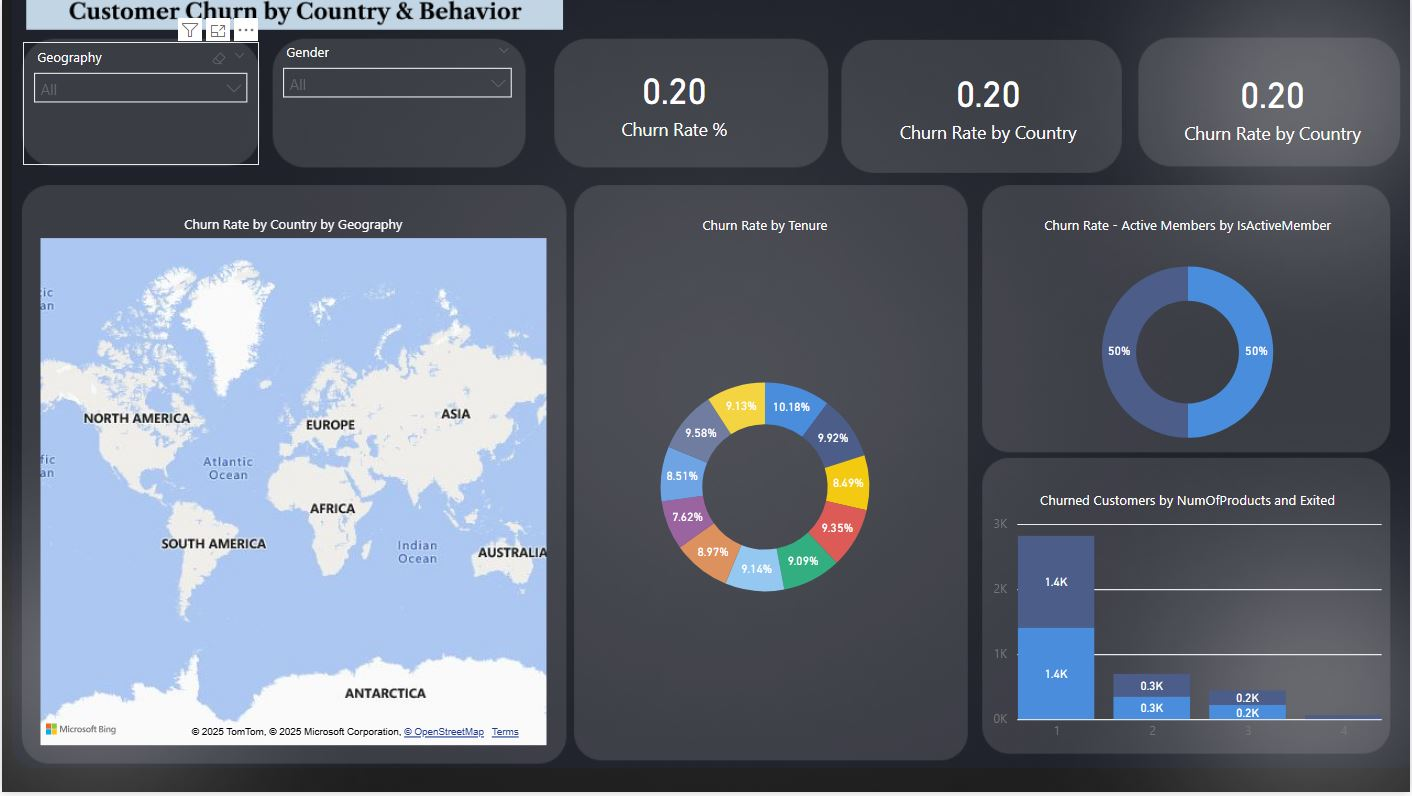

This screenshot's page, from the dashboard's own definition file:
{"tool":"powerbi","page":{"name":"Page 2","canvas":[1280,720],"ordinal":1},"visuals":[{"type":"card","fields":{"Values":["Bank_Churn.Churn Rate %"]},"box":[474.1,33.4,273.1,114.1],"z":0},{"type":"card","fields":{"Values":["Bank_Churn.Churn Rate by Country"]},"box":[1051,37.8,208.1,112.4],"z":1000},{"type":"card","fields":{"Values":["Bank_Churn.Churn Rate by Country"]},"box":[784.1,40.4,223.9,107.1],"z":3000},{"type":"map","fields":{"Size":["Bank_Churn.Churn Rate by Country"],"Series":["Bank_Churn.Geography"]},"box":[30.2,195.5,469.8,487.3],"z":4000},{"type":"donutChart","title":"Churn Rate by Tenure","fields":{"Series":["Bank_Churn.Tenure"],"Y":["Bank_Churn.Churn Rate %"]},"box":[520.4,196.5,347.2,476.6],"z":5000},{"type":"columnChart","fields":{"Category":["Bank_Churn.NumOfProducts"],"Y":["Bank_Churn.Churned Customers"],"Series":["Bank_Churn.Exited"]},"box":[896.8,446.4,362.8,236.4],"z":6000},{"type":"donutChart","fields":{"Category":["Bank_Churn.IsActiveMember"],"Y":["Bank_Churn.Churn Rate - Active Members"]},"box":[896.8,196.5,362.8,231.5],"z":7000},{"type":"slicer","fields":{"Values":["Bank_Churn.Gender"]},"box":[245.9,33.4,228.3,123.8],"z":8000},{"type":"slicer","fields":{"Values":["Bank_Churn.Geography"]},"box":[19.3,37.8,214.2,112.4],"z":9000}]}

Visuals, with their boxes on the page's 1280x720 design canvas (x1, y1, x2, y2). These are canvas units, not pixel positions in the 1412x796 screenshot, which may show the page scaled, cropped or inside an application window:
card - Bank_Churn.Churn Rate %: box=[474, 33, 747, 148]
card - Bank_Churn.Churn Rate by Country: box=[1051, 38, 1259, 150]
card - Bank_Churn.Churn Rate by Country: box=[784, 40, 1008, 148]
map - Bank_Churn.Churn Rate by Country x Bank_Churn.Geography: box=[30, 196, 500, 683]
"Churn Rate by Tenure" donutChart: box=[520, 196, 868, 673]
columnChart - Bank_Churn.NumOfProducts x Bank_Churn.Churned Customers: box=[897, 446, 1260, 683]
donutChart - Bank_Churn.IsActiveMember x Bank_Churn.Churn Rate - Active Members: box=[897, 196, 1260, 428]
slicer - Bank_Churn.Gender: box=[246, 33, 474, 157]
slicer - Bank_Churn.Geography: box=[19, 38, 234, 150]
